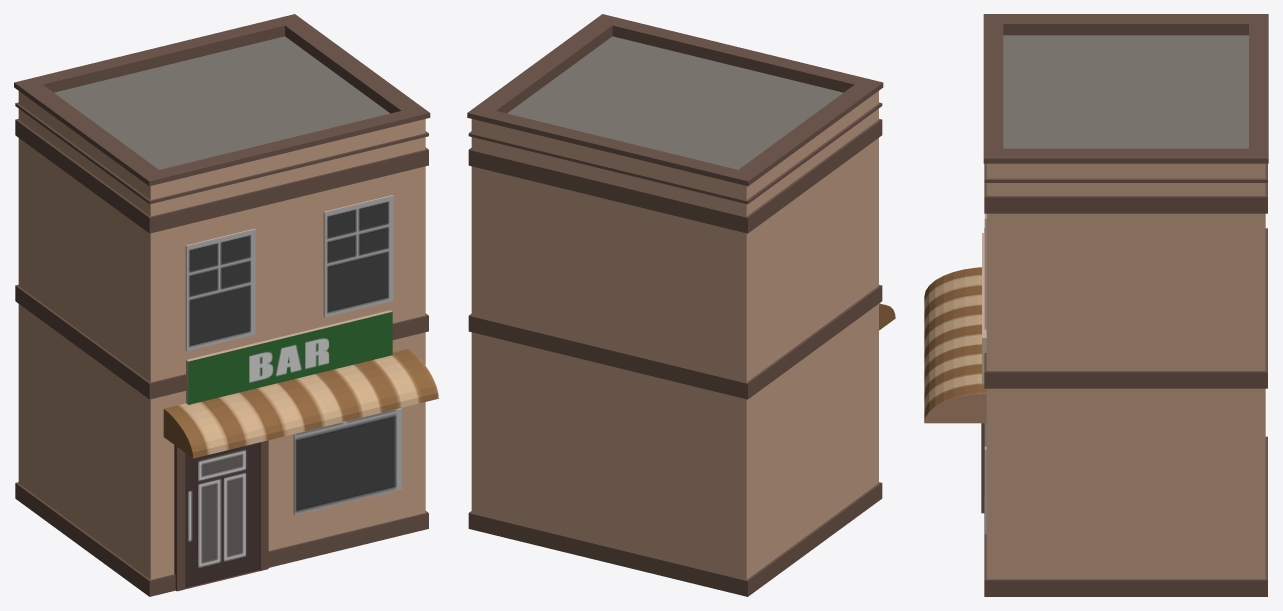
Rendered from Building_Bar.fbx.
3 renders of one model, left to right at view 1: azimuth 30°, elevation 25°; view 2: azimuth 150°, elevation 25°; view 3: azimuth 270°, elevation 25°, orthographic. The views are drawn at different scales.
Parts seen in each view (by area): view 1: Building_Bar; view 2: Building_Bar; view 3: Building_Bar.
Boxes of the visible parts, <box> form: Building_Bar: <box>14,14,438,596</box>; Building_Bar: <box>467,14,895,596</box>; Building_Bar: <box>924,14,1268,596</box>.
Bounding box in the file's own units: 736 × 1041 × 741.
